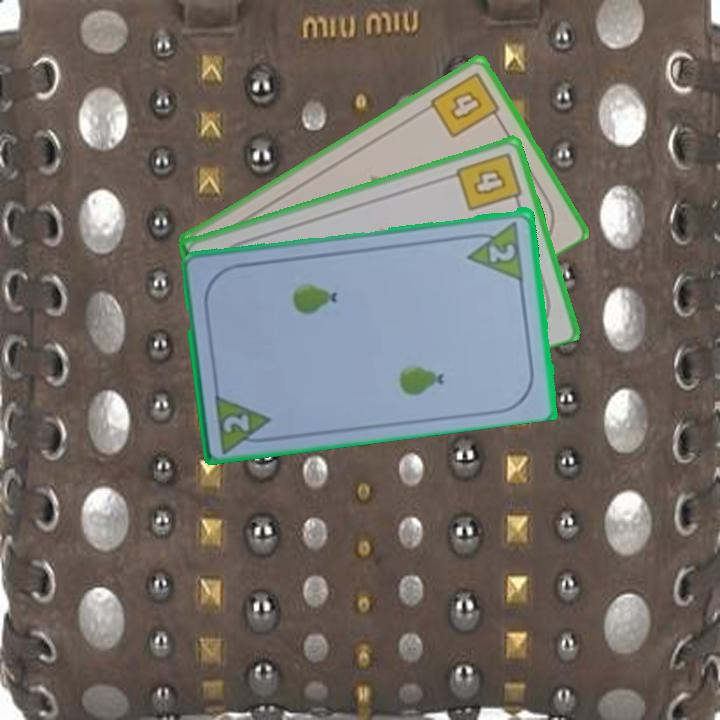2p: (211, 388, 276, 453), (486, 240, 519, 265)
4b: (426, 68, 505, 141), (452, 148, 525, 214)
